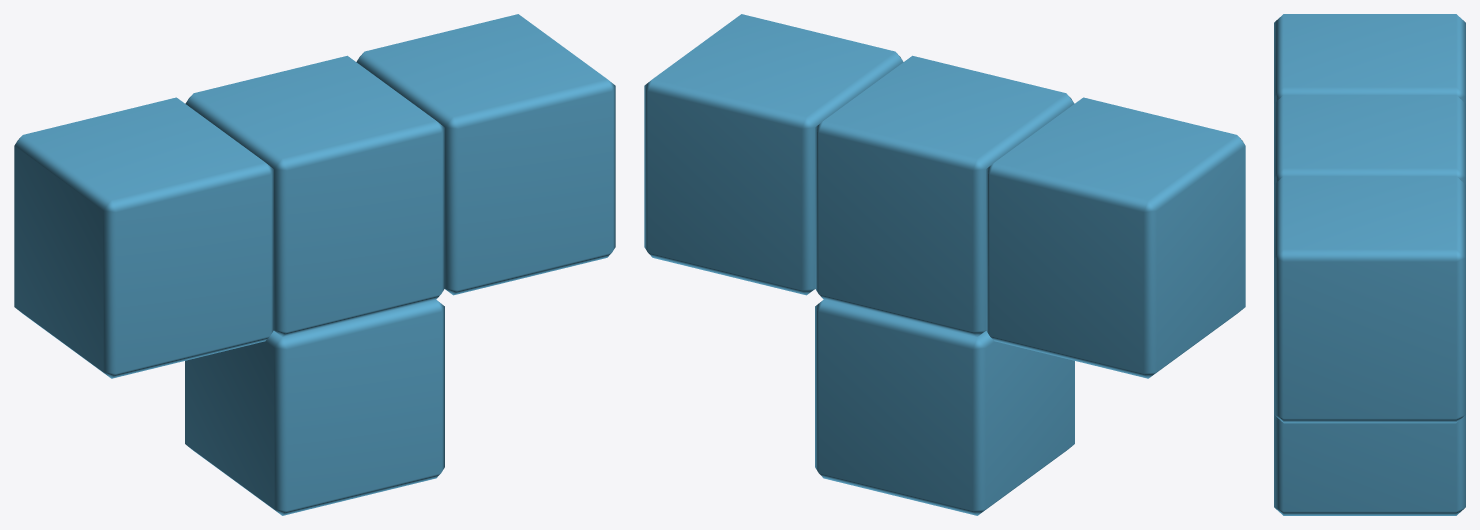
File: FinOcean2.fbx
The picture shows the model from 3 angles, left to right: view 1: azimuth 30°, elevation 25°; view 2: azimuth 150°, elevation 25°; view 3: azimuth 270°, elevation 25°; orthographic projection. The views are drawn at different scales.
Visible parts, largest first — view 1: geo1; view 2: geo1; view 3: geo1.
Part boxes in pixels (left/top/right/bottom): geo1: left=14, top=14, right=615, bottom=515; geo1: left=644, top=14, right=1245, bottom=515; geo1: left=1274, top=14, right=1465, bottom=515.
Bounding box in the file's own units: 3 × 2 × 1.
